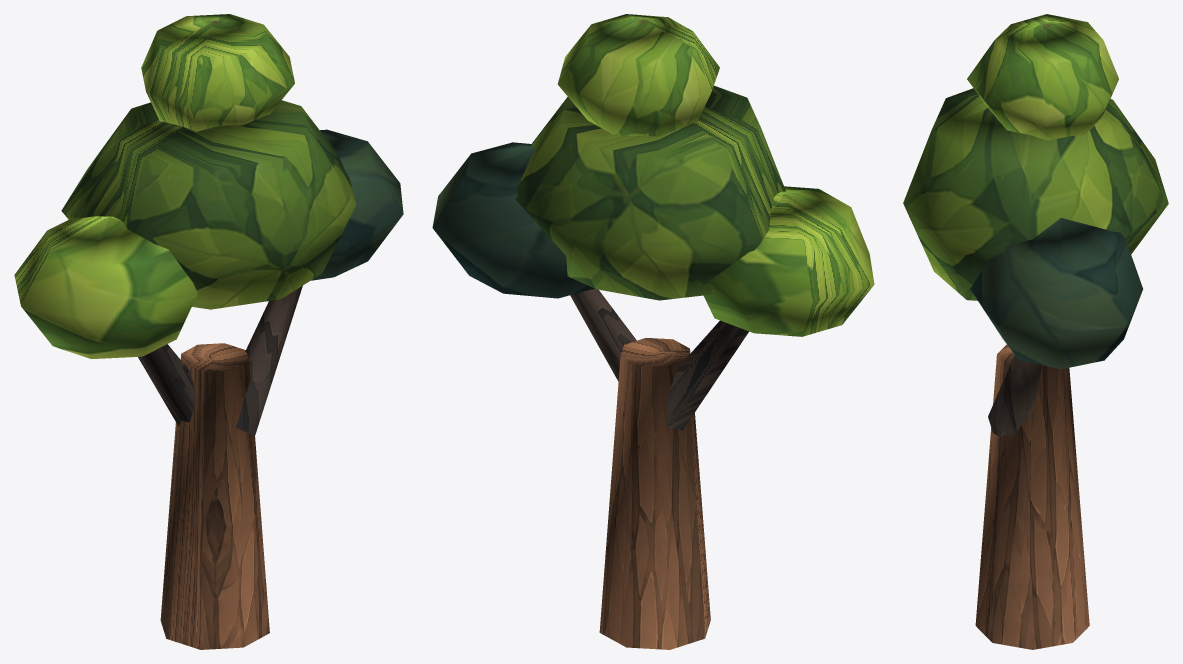
File: tree_oak_broad.obj
The picture shows the model from 3 angles, left to right: view 1: azimuth 30°, elevation 25°; view 2: azimuth 150°, elevation 25°; view 3: azimuth 270°, elevation 25°; orthographic projection.
Visible parts, largest first — view 1: tree_oak_broad; view 2: tree_oak_broad; view 3: tree_oak_broad.
Part boxes in pixels (x1,y1,x2,y2): tree_oak_broad: [14, 14, 403, 649]; tree_oak_broad: [432, 14, 874, 649]; tree_oak_broad: [903, 14, 1168, 649].
Size of the model in its own units: 1.32 by 1.87 by 0.7447.
5 materials, 5 textured.
